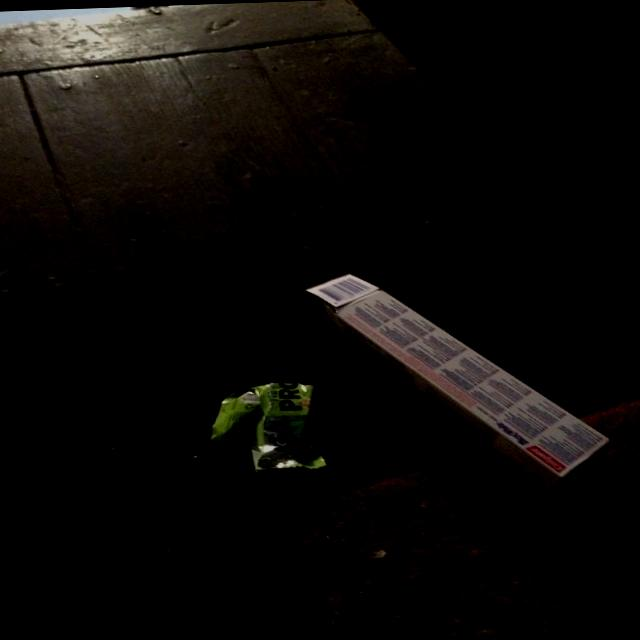Trash: (209, 371, 326, 484)
